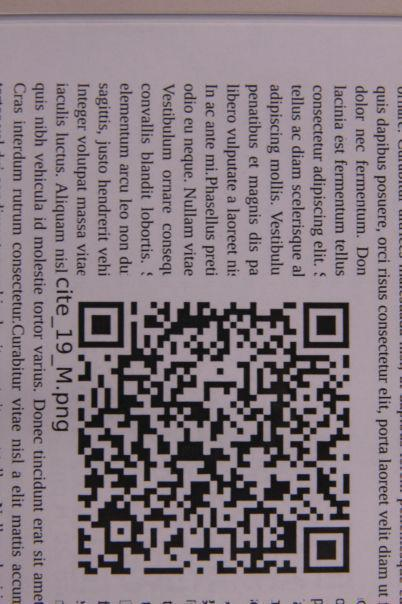qr_code: (77, 301, 351, 575)
